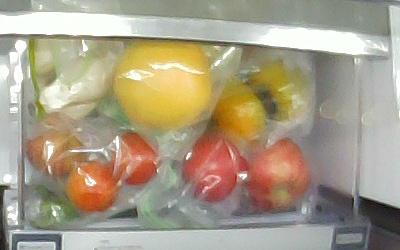apple_vinyl: (238, 138, 309, 213), (181, 131, 249, 203)
grapefruit_vinyl: (116, 40, 212, 131)
persimmon_vinyl: (213, 82, 271, 149), (249, 57, 308, 119)
prune_vinyl: (27, 115, 88, 176), (109, 134, 161, 184), (66, 163, 116, 209)
